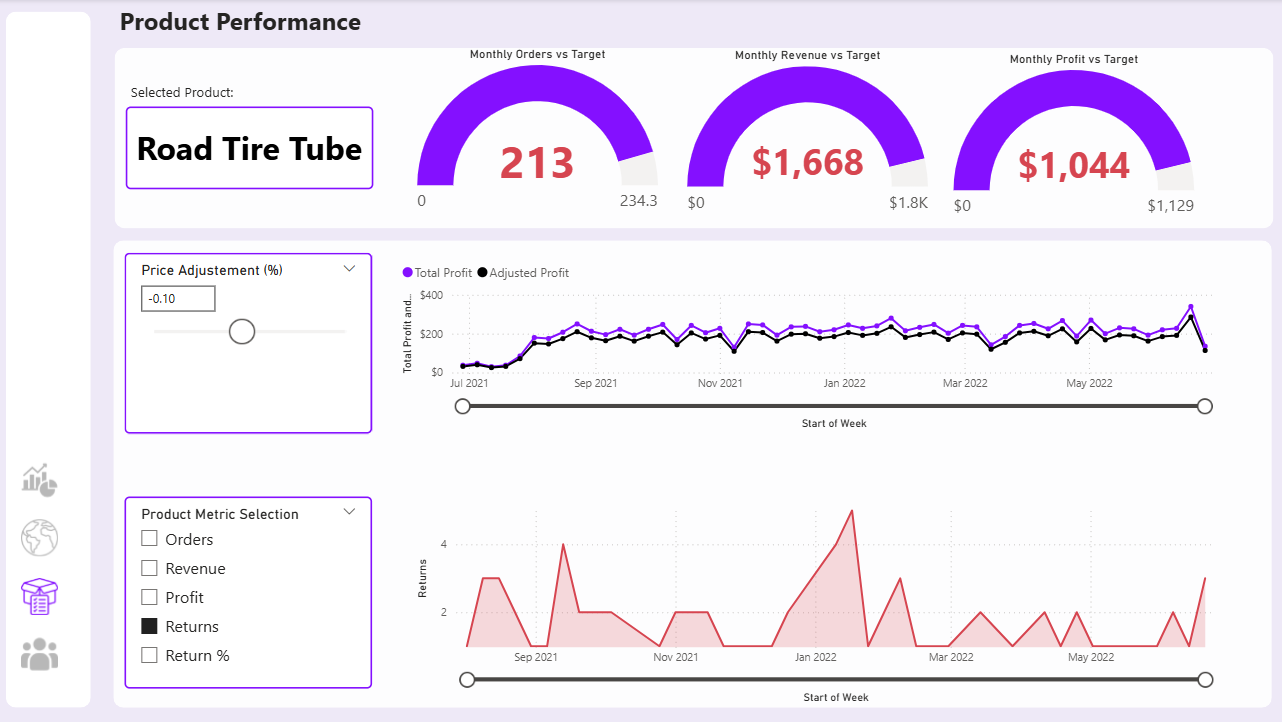

What the dashboard file says about the page in this screenshot:
{"tool":"powerbi","page":{"name":"Product Detail","canvas":[1280,720],"ordinal":2},"visuals":[{"type":"shape","box":[115.7,240.1,1153.2,465.2],"z":0},{"type":"actionButton","box":[20.6,455.9,44.7,44.7],"z":0,"group":"g1"},{"type":"shape","box":[116.7,49.1,1153.3,179.8],"z":1000},{"type":"actionButton","box":[20.5,513.4,45,45],"z":1000,"group":"g1"},{"type":"shape","title":"Nav Shape","box":[8.7,12.4,84.6,692.9],"z":2000},{"type":"actionButton","box":[20.5,571.2,45,45],"z":2000,"group":"g1"},{"type":"gauge","title":"Monthly Orders vs Target","fields":{"Y":["Measure table.Total Orders"],"MaxValue":["Measure table.Order Target"]},"box":[413.4,47.6,250.3,174.9],"z":3000},{"type":"actionButton","box":[20.5,629,45,45],"z":3000,"group":"g1"},{"type":"gauge","title":"Monthly Profit vs Target","fields":{"Y":["Measure table.Total Profit"],"MaxValue":["Measure table.Profit Target"]},"box":[946.8,51.9,250.3,174.9],"z":4000},{"type":"gauge","title":"Monthly Revenue vs Target","fields":{"Y":["Measure table.Total Revenue"],"MaxValue":["Measure table.Revenue Target"]},"box":[682.2,49.1,250.3,174.9],"z":5000},{"type":"lineChart","title":"Profit Trend","fields":{"Category":["Calendar Lookup.Date Hierarchy.Start of Year","Calendar Lookup.Date Hierarchy.Start of Month","Calendar Lookup.Date Hierarchy.Start of Week"],"Y":["Measure table.Total Profit","Measure table.Adjusted Profit"]},"box":[398.1,252.5,833.5,180.4],"z":6000},{"type":"areaChart","title":"Return Trend","fields":{"Y":["Measure table.Total Returns"],"Category":["Calendar Lookup.Date Hierarchy.Start of Week"]},"box":[413,495.1,818.5,210.2],"z":7000},{"type":"card","title":"Top Customer (by Revenue):","fields":{"Values":["Min(Product Lookup.ProductName)"]},"box":[127.9,107,246.3,82.1],"z":8000},{"type":"group","id":"g1","title":"Nav Buttons","box":[20.5,455.9,45,218.1],"z":9000},{"type":"slicer","fields":{"Values":["Price Adjustement (%).Price Adjustement (%)"]},"box":[126.9,252.5,246.3,180.4],"z":10000},{"type":"slicer","fields":{"Values":["Product Metric Selection.Product Metric Selection"]},"box":[126.9,495.1,246.3,191.6],"z":11000},{"type":"textbox","box":[127.9,78.4,129.4,28.6],"z":12000},{"type":"textbox","box":[116.9,0,319.7,59.7],"z":13000}]}

Visuals, with their boxes on the page's 1280x720 design canvas (x1, y1, x2, y2). These are canvas units, not pixel positions in the 1282x722 screenshot, which may show the page scaled, cropped or inside an application window:
shape: crop(116, 240, 1269, 705)
actionButton: crop(21, 456, 65, 501)
shape: crop(117, 49, 1270, 229)
actionButton: crop(20, 513, 66, 558)
"Nav Shape" shape: crop(9, 12, 93, 705)
actionButton: crop(20, 571, 66, 616)
"Monthly Orders vs Target" gauge: crop(413, 48, 664, 222)
actionButton: crop(20, 629, 66, 674)
"Monthly Profit vs Target" gauge: crop(947, 52, 1197, 227)
"Monthly Revenue vs Target" gauge: crop(682, 49, 932, 224)
"Profit Trend" lineChart: crop(398, 252, 1232, 433)
"Return Trend" areaChart: crop(413, 495, 1232, 705)
"Top Customer (by Revenue):" card: crop(128, 107, 374, 189)
"Nav Buttons" group: crop(20, 456, 66, 674)
slicer - Price Adjustement (%).Price Adjustement (%): crop(127, 252, 373, 433)
slicer - Product Metric Selection.Product Metric Selection: crop(127, 495, 373, 687)
textbox: crop(128, 78, 257, 107)
textbox: crop(117, 0, 437, 60)
